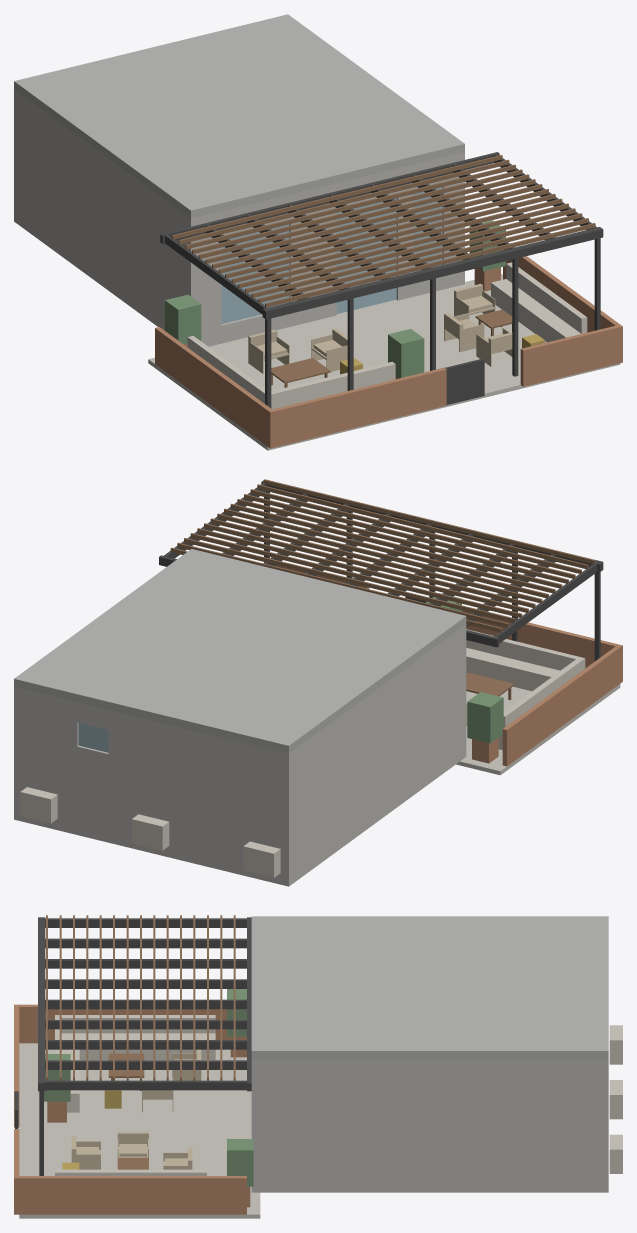
The model's file is NANDJUI_V8.glb.
3 renders of one model, top to bottom at view 1: azimuth 30°, elevation 25°; view 2: azimuth 150°, elevation 25°; view 3: azimuth 270°, elevation 25°, orthographic.
Visible parts, largest first — view 1: IfcSlab_442, IfcMember_8732, IfcWall_130, IfcSlab_8303, IfcWall_234, IfcWall_8324, IfcWall_8365, IfcBeam_8692, IfcWall_8345, IfcFurniture_8892, IfcFurniture_8850, IfcWindow_296 (+17 smaller); view 2: IfcSlab_442, IfcWall_172, IfcMember_8732, IfcWall_130, IfcFurniture_8850, IfcWall_8365, IfcWall_8324, IfcSlab_8303, IfcGeographicElement_9331, IfcBeam_8512, IfcUnitaryEquipment_9512, IfcUnitaryEquipment_9552 (+8 smaller); view 3: IfcSlab_442, IfcWall_152, IfcSlab_8303, IfcWall_8365, IfcMember_8732, IfcFurniture_8850, IfcBeam_8672, IfcBeam_8532, IfcBeam_8592, IfcBeam_8512, IfcBeam_8552, IfcBeam_8632 (+23 smaller).
Boxes of the visible parts, x1=… form: IfcSlab_442: x1=14, y1=14, x2=464, y2=218; IfcMember_8732: x1=172, y1=155, x2=595, y2=307; IfcWall_130: x1=14, y1=89, x2=198, y2=330; IfcSlab_8303: x1=148, y1=273, x2=620, y2=450; IfcWall_234: x1=187, y1=152, x2=464, y2=346; IfcWall_8324: x1=267, y1=367, x2=446, y2=448; IfcWall_8365: x1=155, y1=256, x2=619, y2=446; IfcBeam_8692: x1=262, y1=227, x2=603, y2=319; IfcWall_8345: x1=520, y1=324, x2=622, y2=386; IfcFurniture_8892: x1=491, y1=262, x2=587, y2=342; IfcFurniture_8850: x1=187, y1=335, x2=395, y2=409; IfcWindow_296: x1=221, y1=224, x2=289, y2=323; IfcSlab_442: x1=14, y1=549, x2=466, y2=753; IfcWall_172: x1=14, y1=687, x2=293, y2=886; IfcMember_8732: x1=170, y1=479, x2=595, y2=632; IfcWall_130: x1=281, y1=627, x2=466, y2=886; IfcFurniture_8850: x1=466, y1=629, x2=585, y2=749; IfcWall_8365: x1=502, y1=646, x2=620, y2=766; IfcWall_8324: x1=462, y1=610, x2=622, y2=683; IfcSlab_8303: x1=456, y1=684, x2=620, y2=775; IfcGeographicElement_9331: x1=467, y1=692, x2=503, y2=743; IfcBeam_8512: x1=494, y1=561, x2=598, y2=643; IfcUnitaryEquipment_9512: x1=243, y1=841, x2=280, y2=877; IfcUnitaryEquipment_9552: x1=20, y1=787, x2=57, y2=823; IfcSlab_442: x1=251, y1=916, x2=608, y2=1059; IfcWall_152: x1=251, y1=1059, x2=608, y2=1192; IfcSlab_8303: x1=19, y1=1043, x2=260, y2=1218; IfcWall_8365: x1=19, y1=1004, x2=246, y2=1214; IfcMember_8732: x1=46, y1=915, x2=235, y2=1081; IfcFurniture_8850: x1=55, y1=1015, x2=215, y2=1112; IfcBeam_8672: x1=39, y1=1080, x2=246, y2=1090; IfcBeam_8532: x1=39, y1=938, x2=246, y2=948; IfcBeam_8592: x1=39, y1=999, x2=246, y2=1009; IfcBeam_8512: x1=39, y1=918, x2=246, y2=927; IfcBeam_8552: x1=39, y1=959, x2=246, y2=968; IfcBeam_8632: x1=39, y1=1040, x2=246, y2=1049.
Size of the model in its own units: 9.2 by 3.65 by 13.64.
